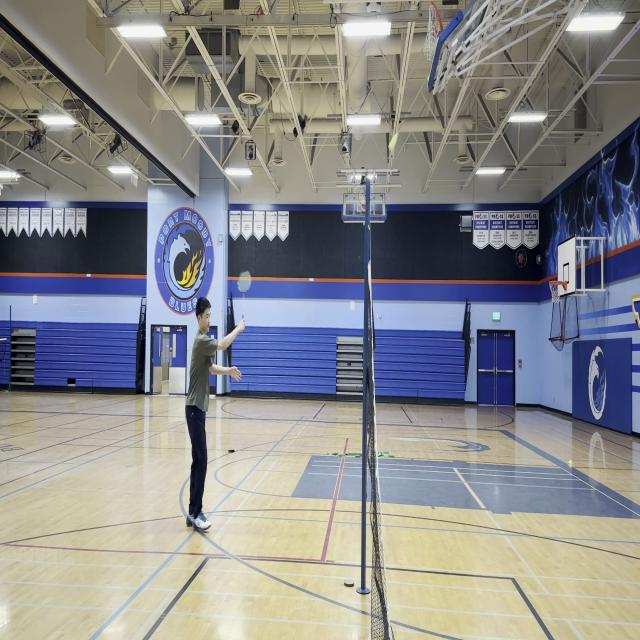shuttlecock: (388, 132, 398, 151)
